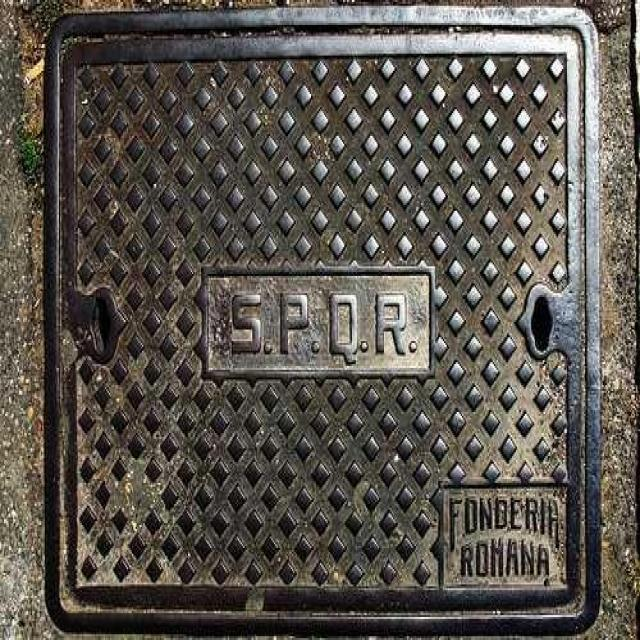manhole: (44, 11, 600, 632)
